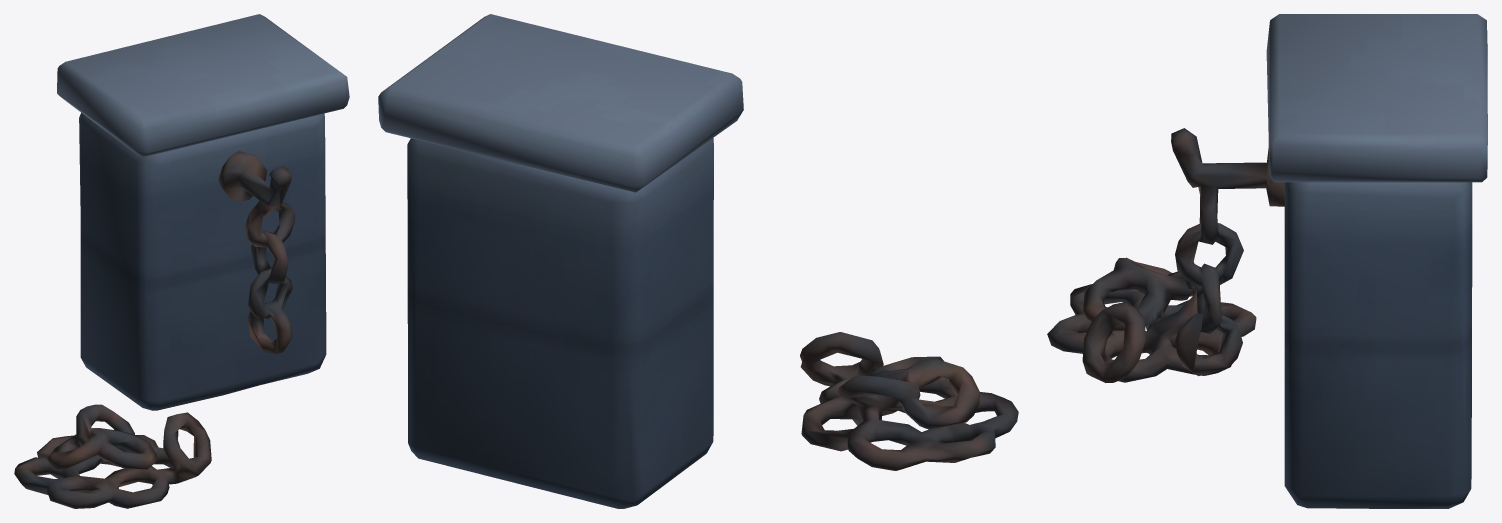
Rendered from chains.glb.
3 renders of one model, left to right at view 1: azimuth 30°, elevation 25°; view 2: azimuth 150°, elevation 25°; view 3: azimuth 270°, elevation 25°, orthographic. The views are drawn at different scales.
Visible parts, largest first — view 1: chains; view 2: chains; view 3: chains.
Part boxes in pixels (x1=…): chains: x1=14, y1=14, x2=349, y2=508; chains: x1=378, y1=14, x2=1018, y2=508; chains: x1=1047, y1=14, x2=1487, y2=508.
Size of the model in its own units: 0.8636 by 0.6782 by 0.7013.
Materials: 1 (1 with a texture image).
